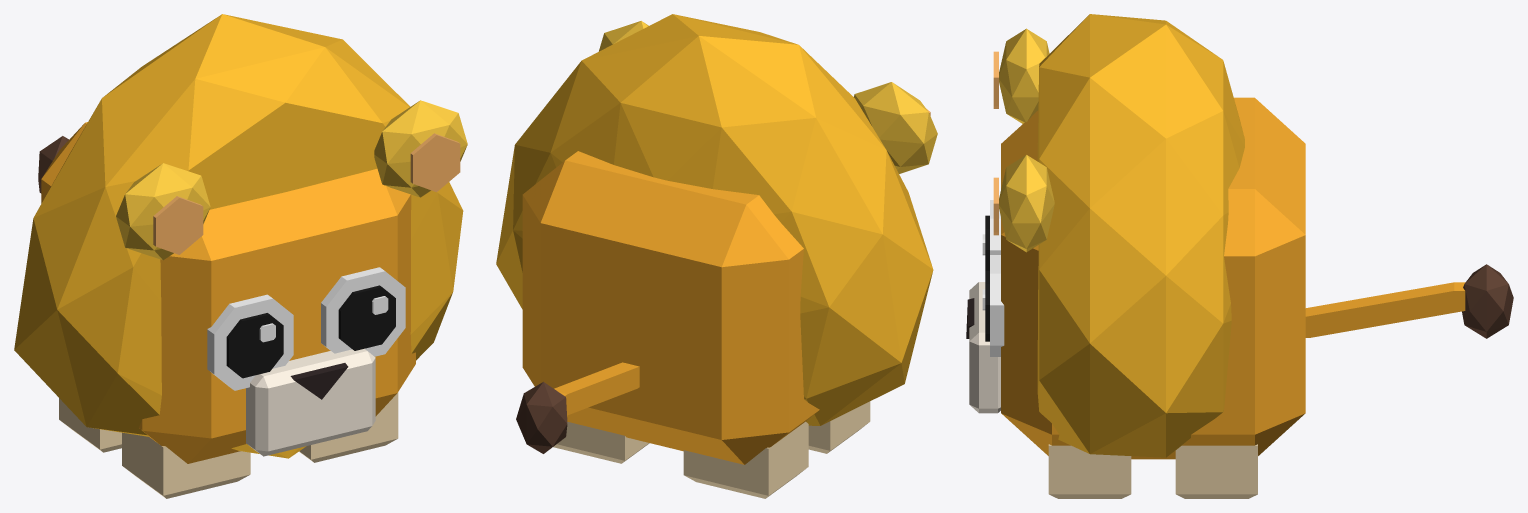
File: StudTest_Lion.fbx
The picture shows the model from 3 angles, left to right: view 1: azimuth 30°, elevation 25°; view 2: azimuth 150°, elevation 25°; view 3: azimuth 270°, elevation 25°; orthographic projection. The views are drawn at different scales.
Visible parts, largest first — view 1: Lion_Mane, Lion, Lion_Snout, Lion_Ears, Lion_Feet, Lion_Eyes, Lion_Pupils, Lion_EarInner, Lion_Nose, Lion_Tuft; view 2: Lion_Mane, Lion, Lion_Feet, Lion_Ears, Lion_Tuft, Lion_Tail; view 3: Lion_Mane, Lion, Lion_Feet, Lion_Ears, Lion_Tail, Lion_Snout, Lion_Tuft, Lion_Eyes, Lion_EarInner, Lion_Pupils.
Boxes of the visible parts, x1,y1,x2,y2 form: Lion_Mane: [14, 14, 463, 458]; Lion: [41, 122, 415, 463]; Lion_Snout: [246, 348, 375, 456]; Lion_Ears: [116, 100, 467, 260]; Lion_Feet: [59, 392, 398, 498]; Lion_Eyes: [207, 267, 405, 390]; Lion_Pupils: [226, 285, 395, 378]; Lion_EarInner: [153, 133, 460, 254]; Lion_Nose: [290, 363, 348, 399]; Lion_Tuft: [38, 136, 68, 193]; Lion_Mane: [496, 14, 933, 425]; Lion: [522, 151, 819, 464]; Lion_Feet: [553, 401, 870, 498]; Lion_Ears: [599, 21, 937, 173]; Lion_Tuft: [516, 382, 567, 453]; Lion_Tail: [554, 362, 639, 415]; Lion_Mane: [1037, 14, 1244, 457]; Lion: [1001, 97, 1305, 459]; Lion_Feet: [1048, 444, 1257, 498]; Lion_Ears: [999, 28, 1054, 252]; Lion_Tail: [1305, 282, 1465, 337]; Lion_Snout: [969, 282, 1000, 413]; Lion_Tuft: [1462, 264, 1513, 338]; Lion_Eyes: [982, 200, 1004, 356]; Lion_EarInner: [993, 51, 998, 235]; Lion_Pupils: [985, 215, 989, 341].
Bounding box in the file's own units: 3.04 × 2.93 × 3.45.
